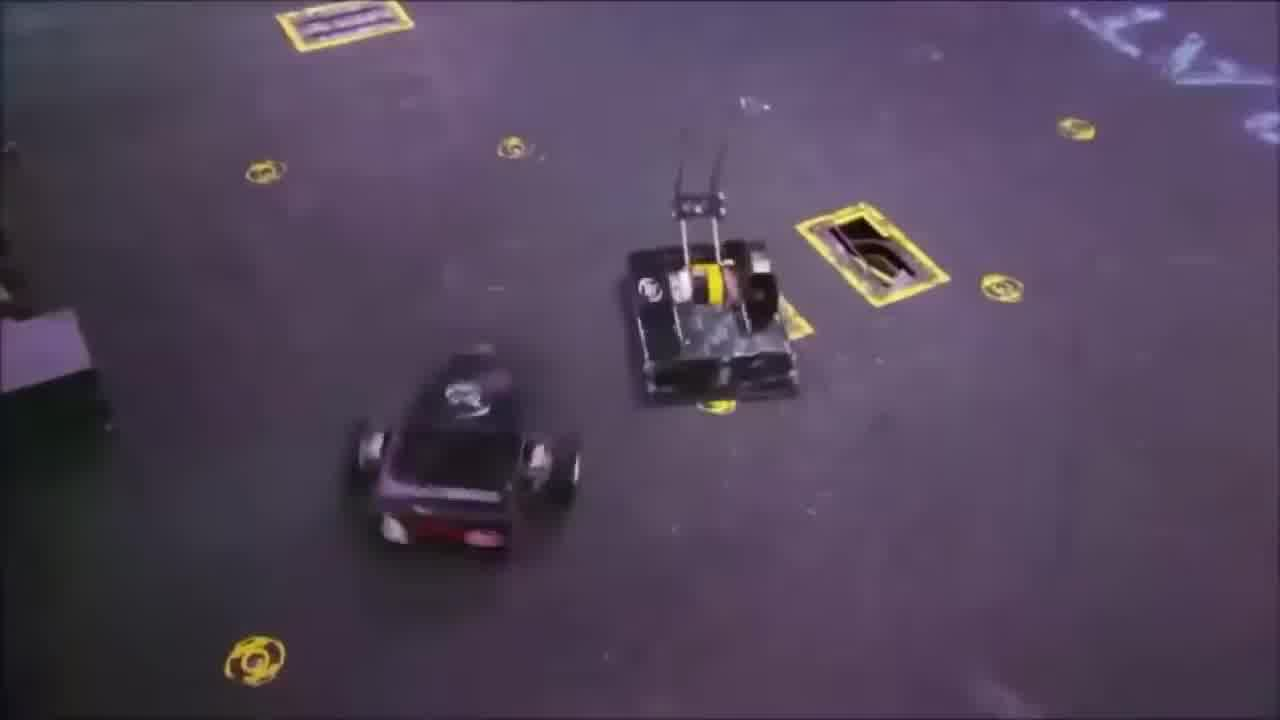combatbot: (343, 341, 584, 564), (621, 240, 805, 404)
